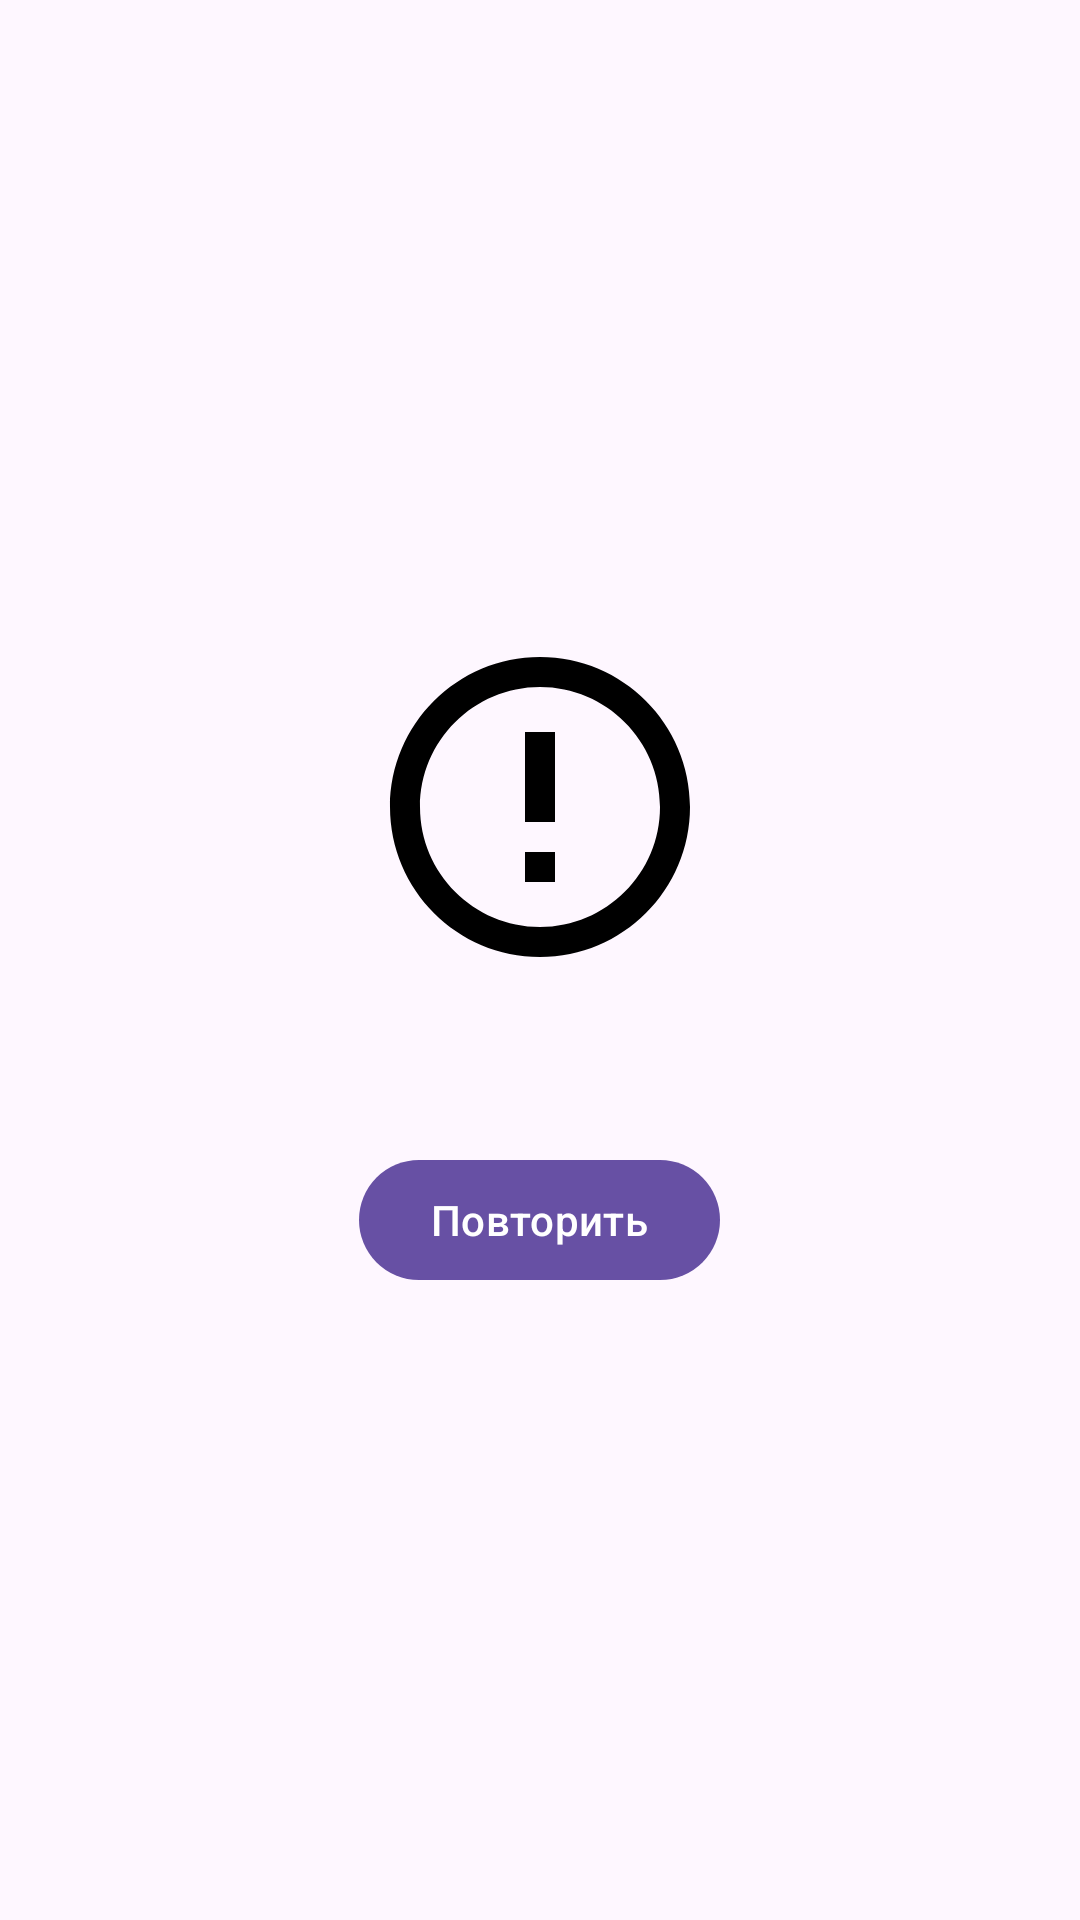

Screen size 1080*1920. Icon name, then its box in pixels as (x1, y1, x2, y2):
error: (390, 657, 690, 957)
